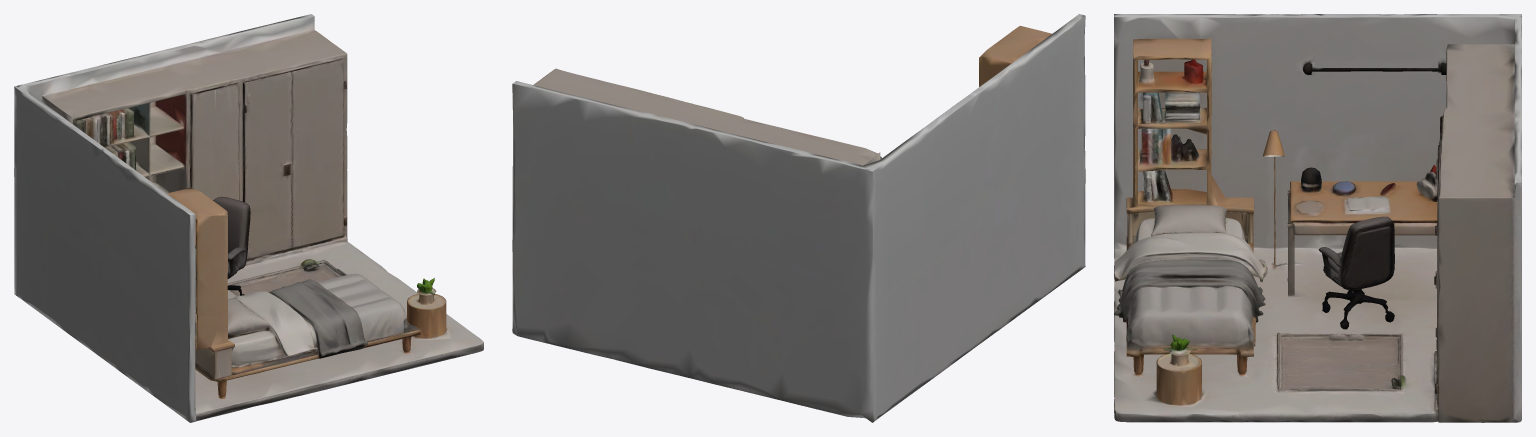
Rendered from webtoon_one_room_furniture_cluster.glb.
3 views of the same model, side by side, from view 1: azimuth 30°, elevation 25°; view 2: azimuth 150°, elevation 25°; view 3: azimuth 270°, elevation 25° (orthographic). The views are drawn at different scales.
Parts seen in each view (by area): view 1: webtoon_one_room_furniture_cluster_mesh_00; view 2: webtoon_one_room_furniture_cluster_mesh_00; view 3: webtoon_one_room_furniture_cluster_mesh_00.
Boxes of the visible parts, x1,y1,x2,y2 form: webtoon_one_room_furniture_cluster_mesh_00: [14, 14, 483, 422]; webtoon_one_room_furniture_cluster_mesh_00: [512, 14, 1085, 422]; webtoon_one_room_furniture_cluster_mesh_00: [1114, 14, 1521, 422].
Bounding box in the file's own units: 3.37 × 2.25 × 3.45.
Materials: 1 (1 with a texture image).
